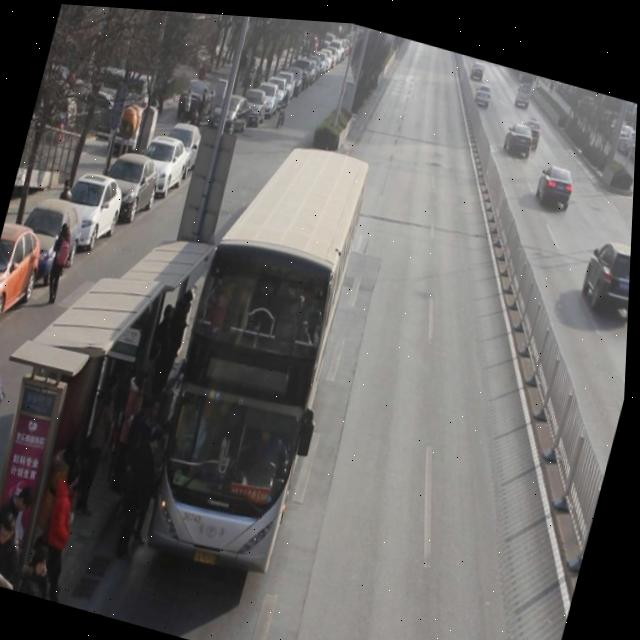car: (578, 227, 633, 318), (532, 151, 581, 206), (502, 112, 540, 155), (519, 105, 546, 142), (471, 73, 494, 104)
truck: (512, 73, 536, 104)
van: (143, 121, 376, 572)
